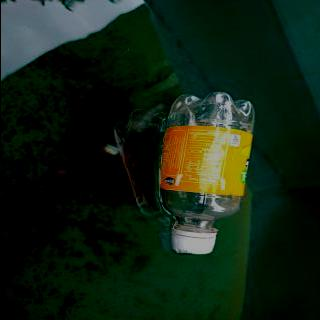bottle: (154, 90, 258, 256)
